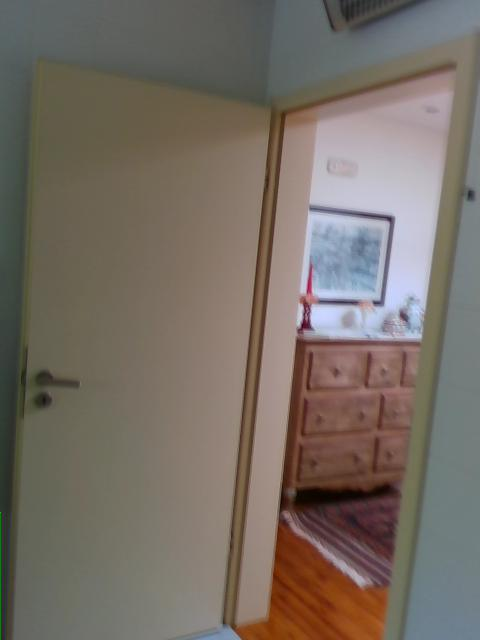open_door: (221, 30, 479, 617)
